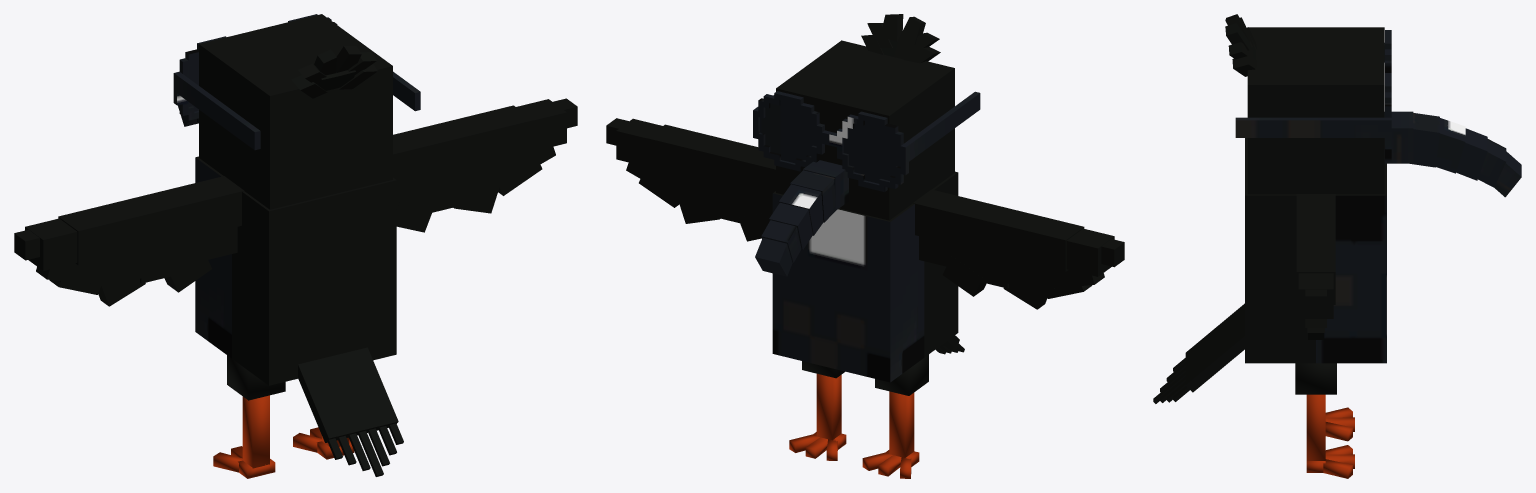
File: Fluri_Flura.obj
The picture shows the model from 3 angles, left to right: view 1: azimuth 30°, elevation 25°; view 2: azimuth 150°, elevation 25°; view 3: azimuth 270°, elevation 25°; orthographic projection. The views are drawn at different scales.
Visible parts, largest first — view 1: Cube0031, Cube0011, Cube0021; view 2: Cube0031, Cube0011, Cube0021; view 3: Cube0031, Cube0011, Cube0021.
Boxes of the visible parts, x1,y1,x2,y2 form: Cube0031: (14, 14, 577, 476); Cube0011: (173, 14, 420, 358); Cube0021: (213, 395, 354, 478); Cube0031: (606, 14, 1124, 395); Cube0011: (753, 91, 980, 382); Cube0021: (789, 373, 919, 478); Cube0031: (1153, 14, 1386, 403); Cube0011: (1235, 30, 1521, 363); Cube0021: (1306, 394, 1354, 478).
Size of the model in its own units: 8.12 by 6.25 by 4.87.
